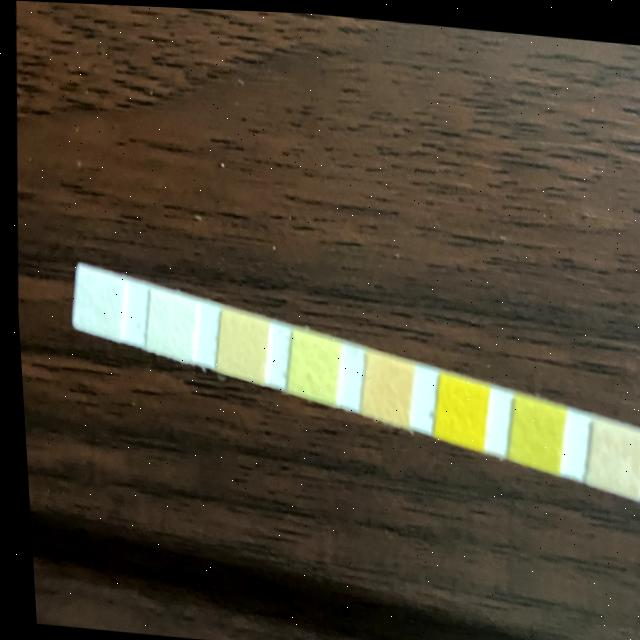Blood: (434, 381, 478, 436)
Ketone: (588, 426, 634, 480)
Leukocytes: (73, 278, 117, 329)
Nitrite: (147, 299, 190, 352)
Protein: (290, 341, 328, 388)
SpGravity: (509, 401, 554, 458)
Urobilinogen: (217, 318, 258, 368)
pH: (364, 359, 404, 408)
